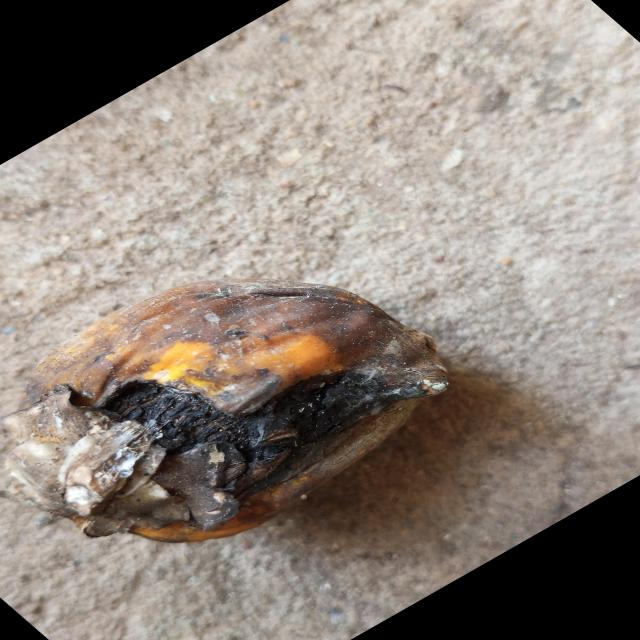damaged: (3, 283, 448, 541)
